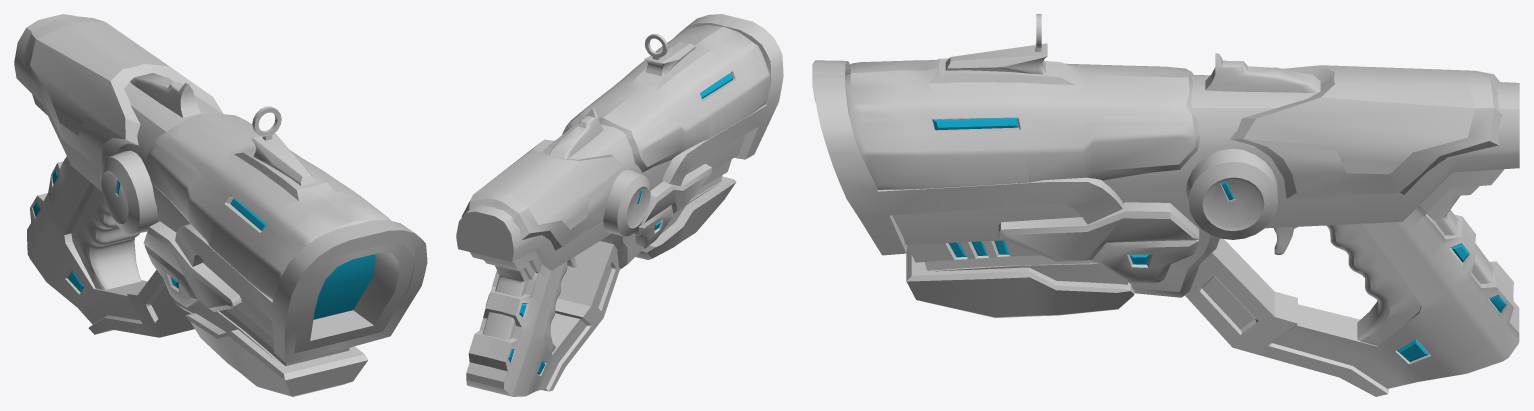
File: arma.fbx
3 views of the same model, side by side, from view 1: azimuth 30°, elevation 25°; view 2: azimuth 150°, elevation 25°; view 3: azimuth 270°, elevation 25° (orthographic). The views are drawn at different scales.
Parts seen in each view (by area): view 1: cubierta1, cubierta2.001, base, Bajo, Plane.001, agarradera, Reposamanos, medidor, decoracion1, Emisivo9, complemento bajo, apuntar (+4 smaller); view 2: cubierta1, Bajo, cubierta2.001, base, Plane.001, medidor, agarradera, decoracion1, trasera, apuntar, mirilla base, decoracion2 (+4 smaller); view 3: cubierta1, Bajo, cubierta2.001, base, Plane.001, agarradera, decoracion1, medidor, Reposamanos, complemento bajo, decoracion2, apuntar (+4 smaller).
Part boxes in pixels (box(x1,y1,x2,y2)): cubierta1: box(145, 113, 391, 299); cubierta2.001: box(21, 16, 223, 168); base: box(14, 14, 413, 353); Bajo: box(27, 94, 194, 337); Plane.001: box(175, 220, 427, 362); agarradera: box(185, 313, 367, 396); Reposamanos: box(71, 186, 141, 289); medidor: box(100, 150, 157, 234); decoracion1: box(143, 221, 241, 311); Emisivo9: box(313, 254, 375, 319); complemento bajo: box(193, 300, 349, 365); apuntar: box(130, 73, 200, 117); cubierta1: box(562, 25, 770, 172); Bajo: box(466, 241, 620, 396); cubierta2.001: box(461, 139, 622, 250); base: box(456, 122, 745, 270); Plane.001: box(662, 14, 783, 186); medidor: box(603, 169, 650, 236); agarradera: box(635, 176, 736, 259); decoracion1: box(640, 164, 712, 225); trasera: box(482, 265, 528, 340); apuntar: box(548, 108, 603, 158); mirilla base: box(644, 42, 695, 76); decoracion2: box(633, 205, 673, 248); cubierta1: box(845, 58, 1199, 189); Bajo: box(1184, 169, 1519, 396); cubierta2.001: box(1230, 65, 1502, 198); base: box(892, 75, 1519, 244); Plane.001: box(812, 60, 1122, 255); agarradera: box(906, 246, 1134, 318); decoracion1: box(998, 202, 1199, 261); medidor: box(1185, 148, 1278, 239); Reposamanos: box(1326, 224, 1420, 345); complemento bajo: box(907, 240, 1128, 284); decoracion2: box(1091, 239, 1198, 282); apuntar: box(1205, 53, 1320, 92).
Size of the model in its own units: 203 by 474 by 821.
